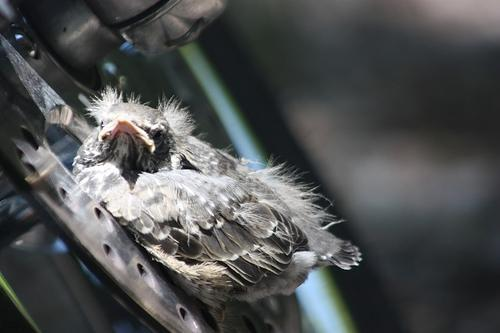motorcycle: (4, 2, 348, 328)
